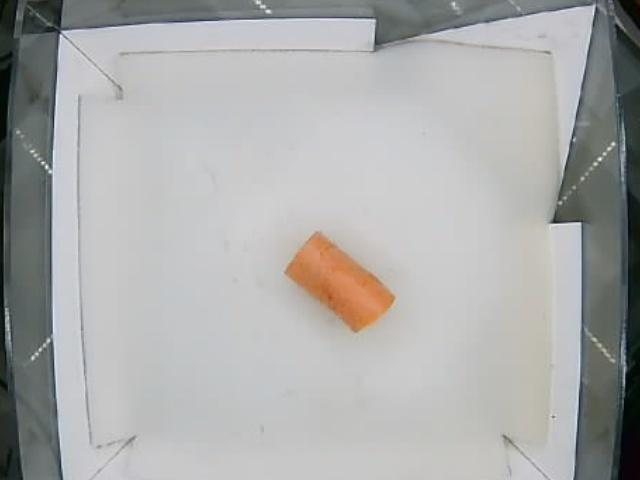Carrot: (283, 229, 397, 331)
